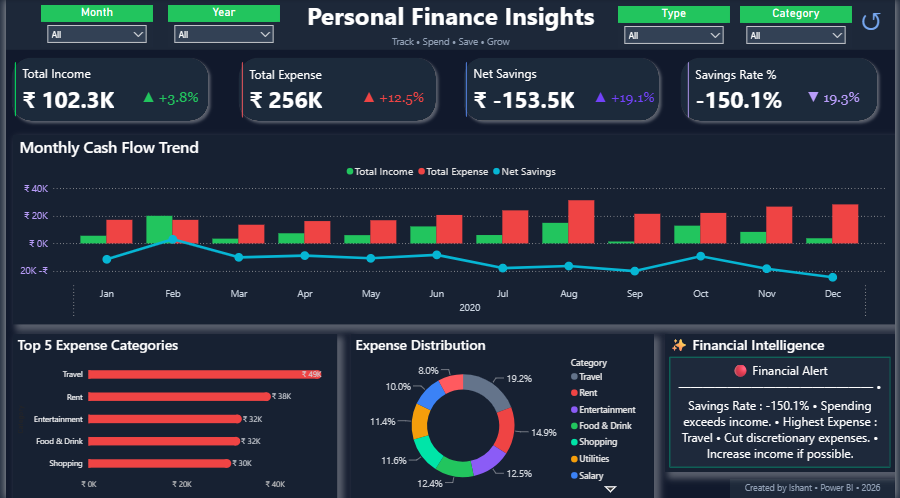

The page's visual inventory and layout, read from the dashboard file:
{"tool":"powerbi","page":{"name":"Page 1","canvas":[1366,768],"ordinal":0},"visuals":[{"type":"shape","box":[695.2,80.7,317.8,114.7],"z":0,"group":"g2"},{"type":"shape","box":[348.8,80.7,320.9,115],"z":1000,"group":"g3"},{"type":"shape","box":[0,80.7,320,115],"z":2000,"group":"g4"},{"type":"textbox","title":"Personal Finance Insights","box":[0,0,1366,77.7],"z":3000},{"type":"cardVisual","fields":{"Data":["all measures.Total Expense"]},"box":[348.8,82.6,209.3,113.1],"z":4000,"group":"g3"},{"type":"cardVisual","fields":{"Data":["all measures.Net Savings"]},"box":[693,82.8,256.5,112.9],"z":5000,"group":"g2"},{"type":"shape","box":[1027.7,80.7,320,115],"z":6000,"group":"g1"},{"type":"cardVisual","fields":{"Data":["all measures.Savings Rate %"]},"box":[1033.3,82.6,256,113.1],"z":7000,"group":"g1"},{"type":"cardVisual","title":"Income","fields":{"Data":["all measures.Total Income"]},"box":[0,82.6,238.8,111.3],"z":8000,"group":"g4"},{"type":"lineClusteredColumnComboChart","title":"Monthly Cash Flow Trend","fields":{"Y":["all measures.Total Income","all measures.Total Expense"],"Y2":["all measures.Net Savings"],"Category":["Date Table.Date.Variation.Date Hierarchy.Year","Date Table.Month Short"]},"box":[10.8,209.6,1355.2,290.9],"z":9000},{"type":"clusteredBarChart","title":"Top 5 Expense Categories","fields":{"Category":["finance_dashboard.Category"],"Y":["all measures.Total Expense"]},"box":[10.8,514.6,497.7,253.4],"z":10000},{"type":"donutChart","title":"Expense Distribution","fields":{"Category":["finance_dashboard.Category"],"Y":["all measures.Total Expense"]},"box":[529.9,514.6,465.4,253.4],"z":12000},{"type":"group","id":"g1","title":"Group 1","box":[1027.7,80.7,320,115],"z":12001},{"type":"group","id":"g2","title":"Group 2","box":[693,80.7,320,115],"z":12002},{"type":"group","id":"g3","title":"Group 3","box":[348.8,80.7,320,115],"z":12003},{"type":"group","id":"g4","title":"Group 4","box":[0,80.7,320,115],"z":12004},{"type":"shape","box":[187.3,111.6,129.1,78.2],"z":12005},{"type":"shape","box":[529.3,111.6,129.1,78.2],"z":12006},{"type":"shape","box":[884,111.6,129.1,78.2],"z":12007},{"type":"shape","box":[1205.9,111.6,129.1,78.2],"z":12008},{"type":"slicer","title":"Month","fields":{"Values":["Date Table.Date.Variation.Date Hierarchy.Month"]},"box":[54.2,9,171.7,65],"z":12009},{"type":"slicer","title":"Category","fields":{"Values":["finance_dashboard.Category"]},"box":[1127.5,10.8,171.7,65],"z":12010},{"type":"slicer","title":"Type","fields":{"Values":["finance_dashboard.Type"]},"box":[939.6,10.8,171.7,65],"z":12011},{"type":"slicer","title":"Year","fields":{"Values":["Date Table.Year"]},"box":[249.3,9,171.7,65],"z":12012},{"type":"actionButton","box":[1289.6,0,76.4,63.7],"z":12013},{"type":"textbox","box":[1112.1,737.3,253.4,30.7],"z":12014},{"type":"shape","title":"✨ Financial Intelligence","box":[1012.2,514.6,353.3,212],"z":12015}]}

Visuals, with their boxes in screenshot pixels (x1, y1, x2, y2), scaled from the page's 1366x768 canvas onto the 900x498 screenshot:
shape: locate(458, 52, 667, 127)
shape: locate(230, 52, 441, 127)
shape: locate(0, 52, 211, 127)
"Personal Finance Insights" textbox: locate(0, 0, 899, 50)
cardVisual - all measures.Total Expense: locate(230, 54, 368, 127)
cardVisual - all measures.Net Savings: locate(457, 54, 626, 127)
shape: locate(677, 52, 888, 127)
cardVisual - all measures.Savings Rate %: locate(681, 54, 849, 127)
"Income" cardVisual: locate(0, 54, 157, 126)
"Monthly Cash Flow Trend" lineClusteredColumnComboChart: locate(7, 136, 899, 325)
"Top 5 Expense Categories" clusteredBarChart: locate(7, 334, 335, 497)
"Expense Distribution" donutChart: locate(349, 334, 656, 497)
"Group 1" group: locate(677, 52, 888, 127)
"Group 2" group: locate(457, 52, 667, 127)
"Group 3" group: locate(230, 52, 441, 127)
"Group 4" group: locate(0, 52, 211, 127)
shape: locate(123, 72, 208, 123)
shape: locate(349, 72, 434, 123)
shape: locate(582, 72, 667, 123)
shape: locate(795, 72, 880, 123)
"Month" slicer: locate(36, 6, 149, 48)
"Category" slicer: locate(743, 7, 856, 49)
"Type" slicer: locate(619, 7, 732, 49)
"Year" slicer: locate(164, 6, 277, 48)
actionButton: locate(850, 0, 899, 41)
textbox: locate(733, 478, 899, 497)
"✨ Financial Intelligence" shape: locate(667, 334, 899, 471)
